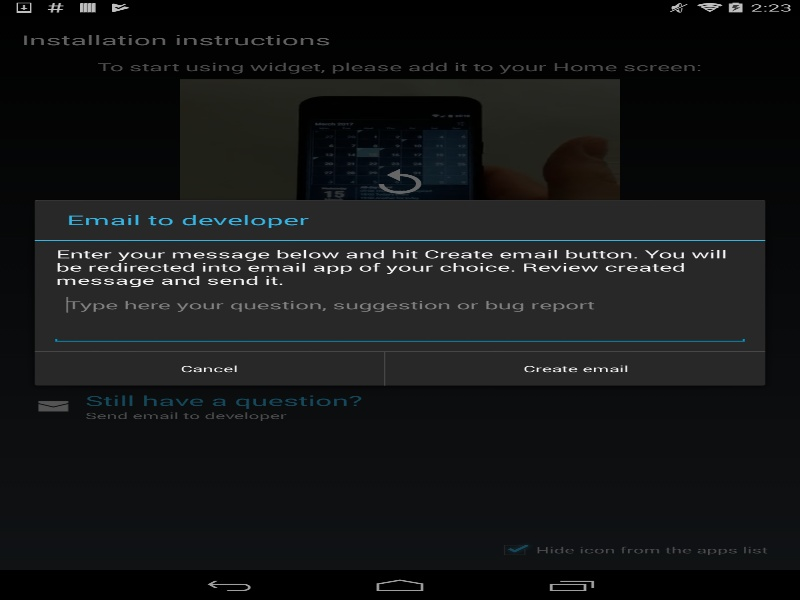Button: (385, 351, 765, 385), (34, 351, 384, 385)
Input: (50, 292, 749, 343)
